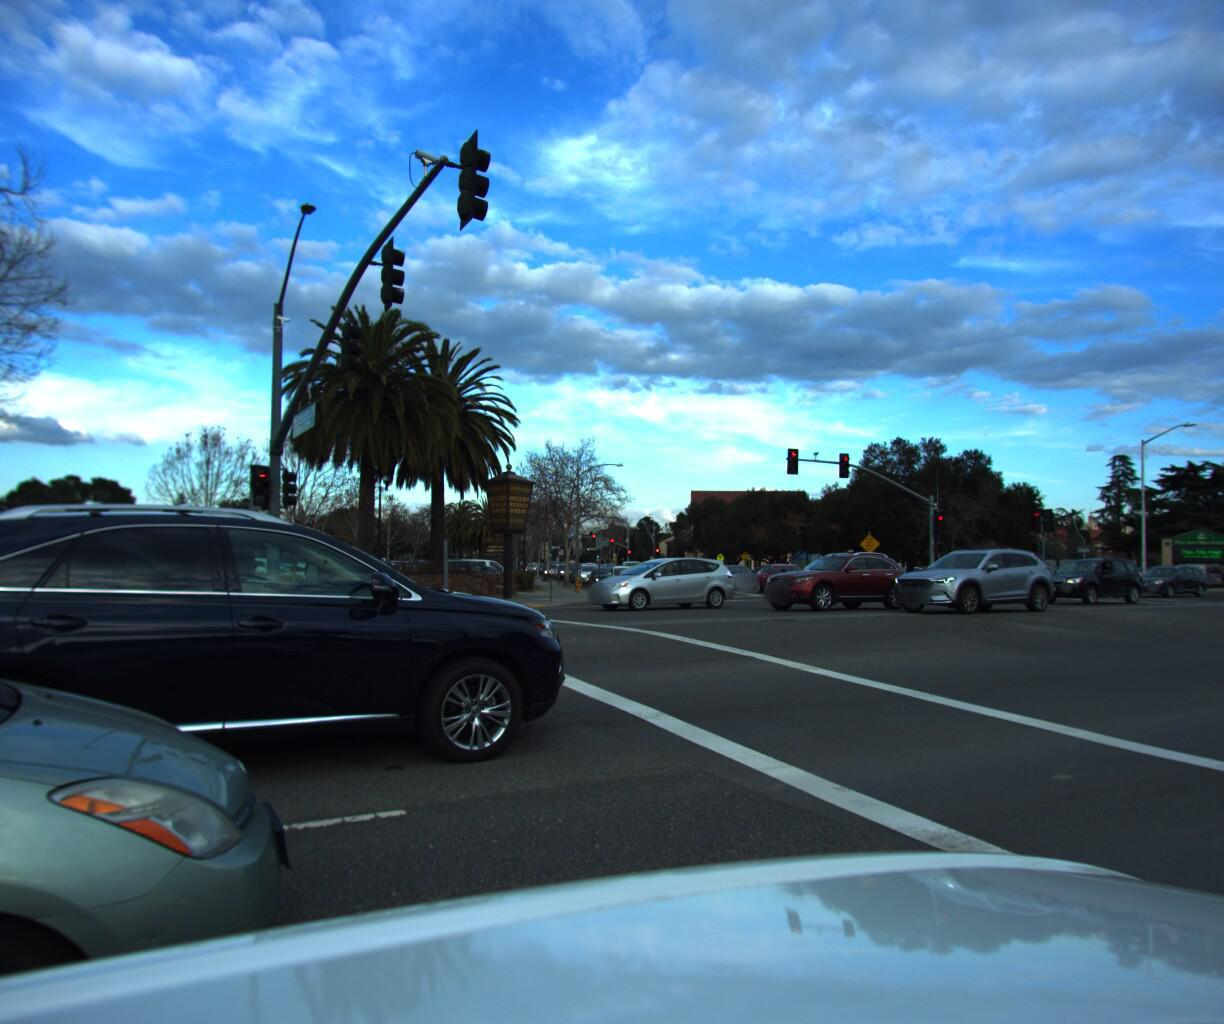car: (885, 538, 1063, 614), (752, 546, 913, 610), (578, 553, 738, 609), (1025, 542, 1141, 600), (1119, 559, 1209, 593), (746, 556, 821, 591), (448, 553, 515, 578), (708, 558, 760, 585), (572, 559, 606, 583)
